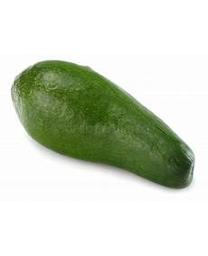avocado: (11, 61, 195, 191)
